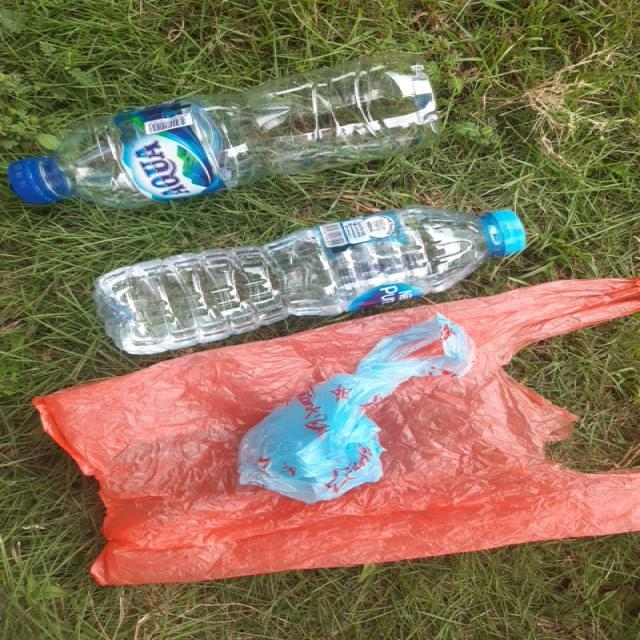Single-layer Plastic: (34, 279, 640, 585), (238, 314, 474, 504)
